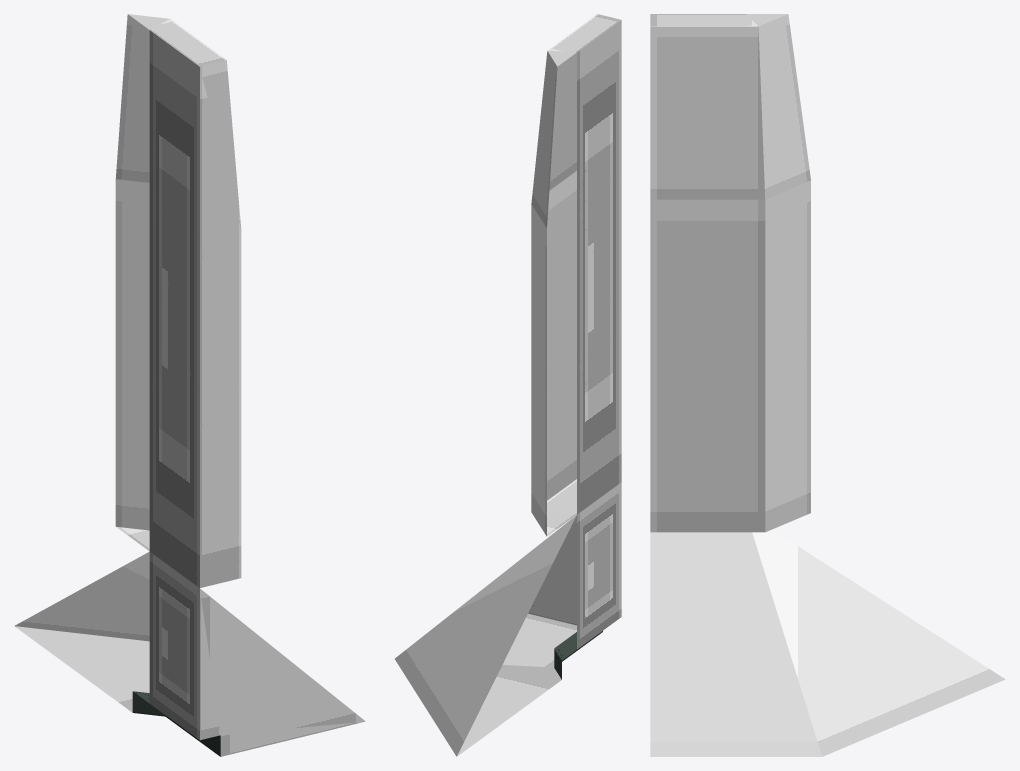
The model's file is run_tall_outside_bend_b_item.obj.
3 views of the same model, side by side, from view 1: azimuth 30°, elevation 25°; view 2: azimuth 150°, elevation 25°; view 3: azimuth 270°, elevation 25° (orthographic). The views are drawn at different scales.
Size of the model in its own units: 1 by 4 by 1.94.
